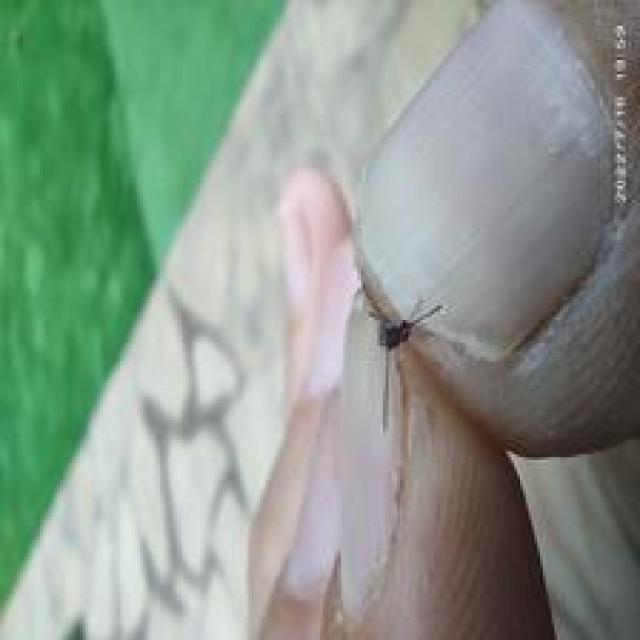Aedes albopictus: (357, 278, 446, 433)
